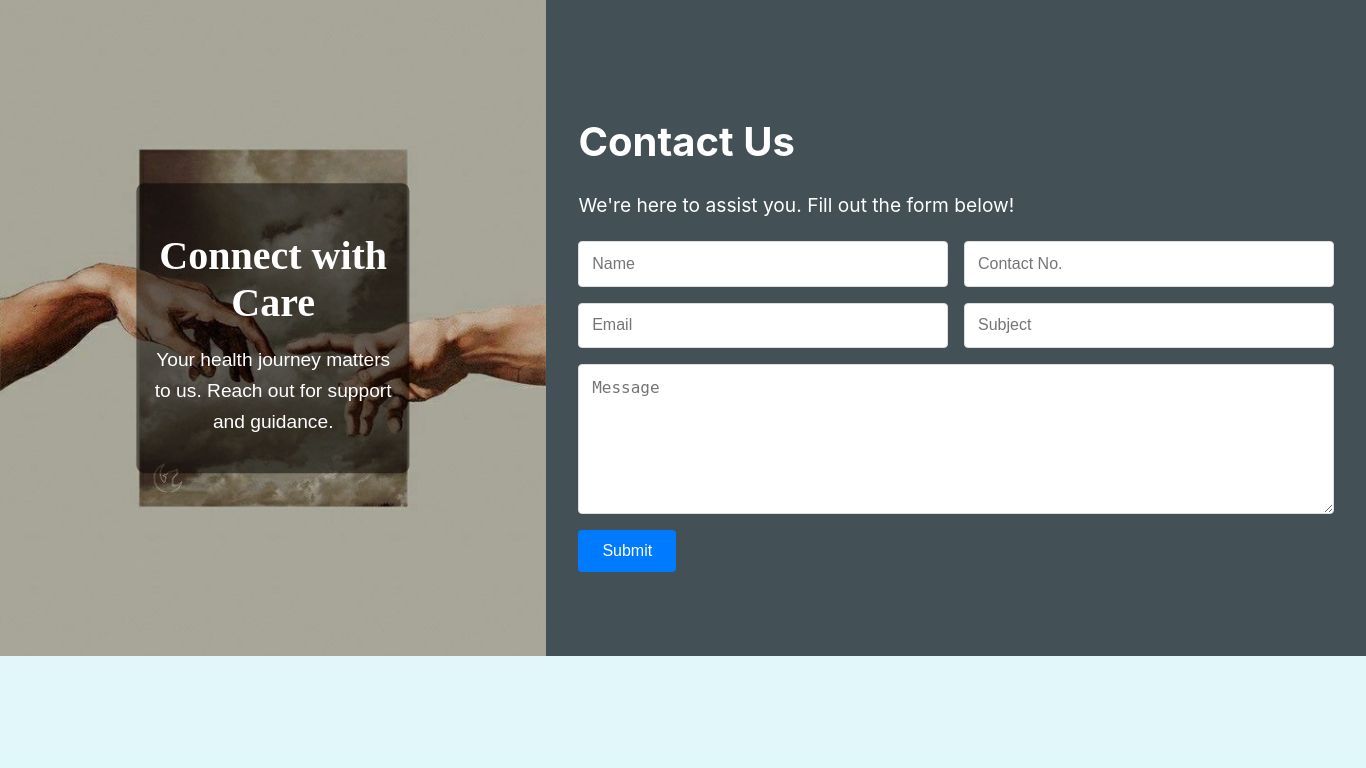
Test case: ContactPage › submits the form successfully
Fill out the form
In the field with placeholder "Name": (763, 264) [578, 241, 948, 287], type "John Doe"
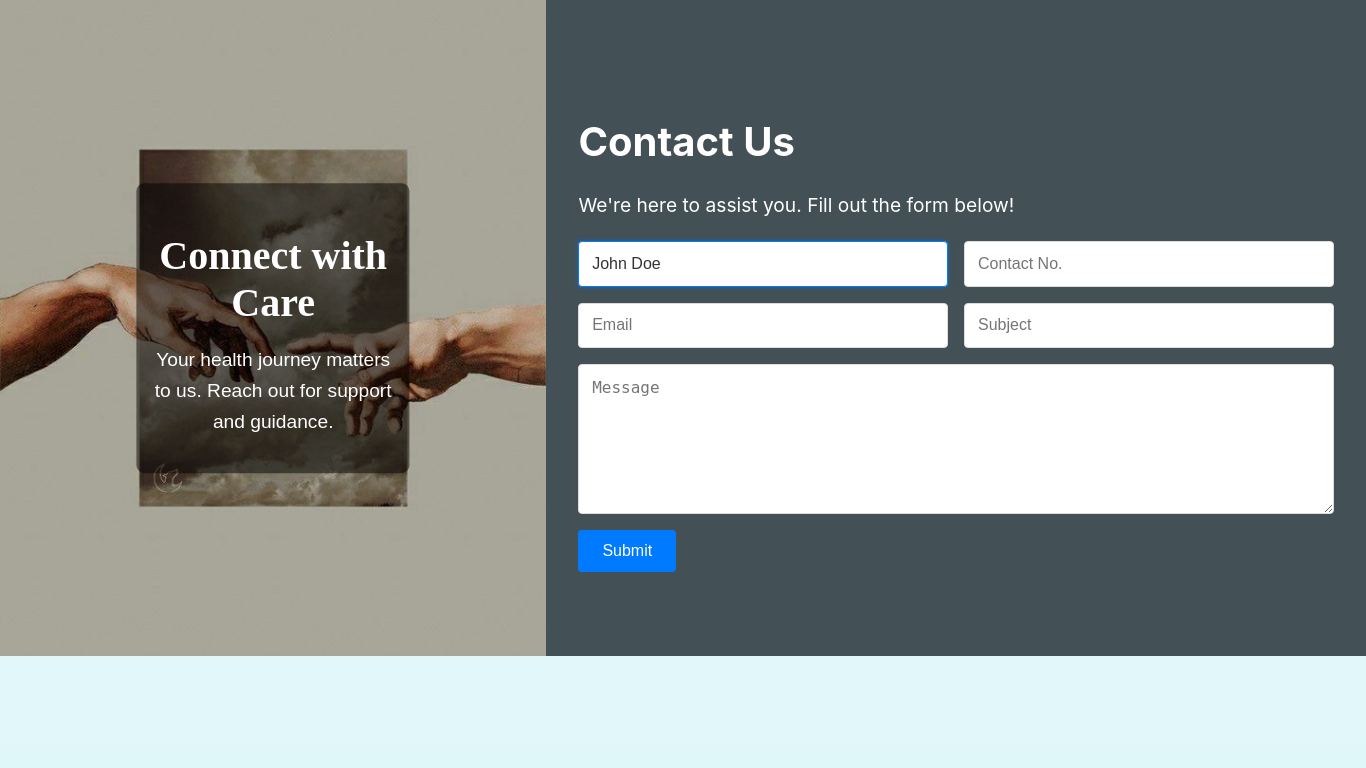
In the field with placeholder "Contact No.": (1149, 264) [964, 241, 1334, 287], type "1234567890"
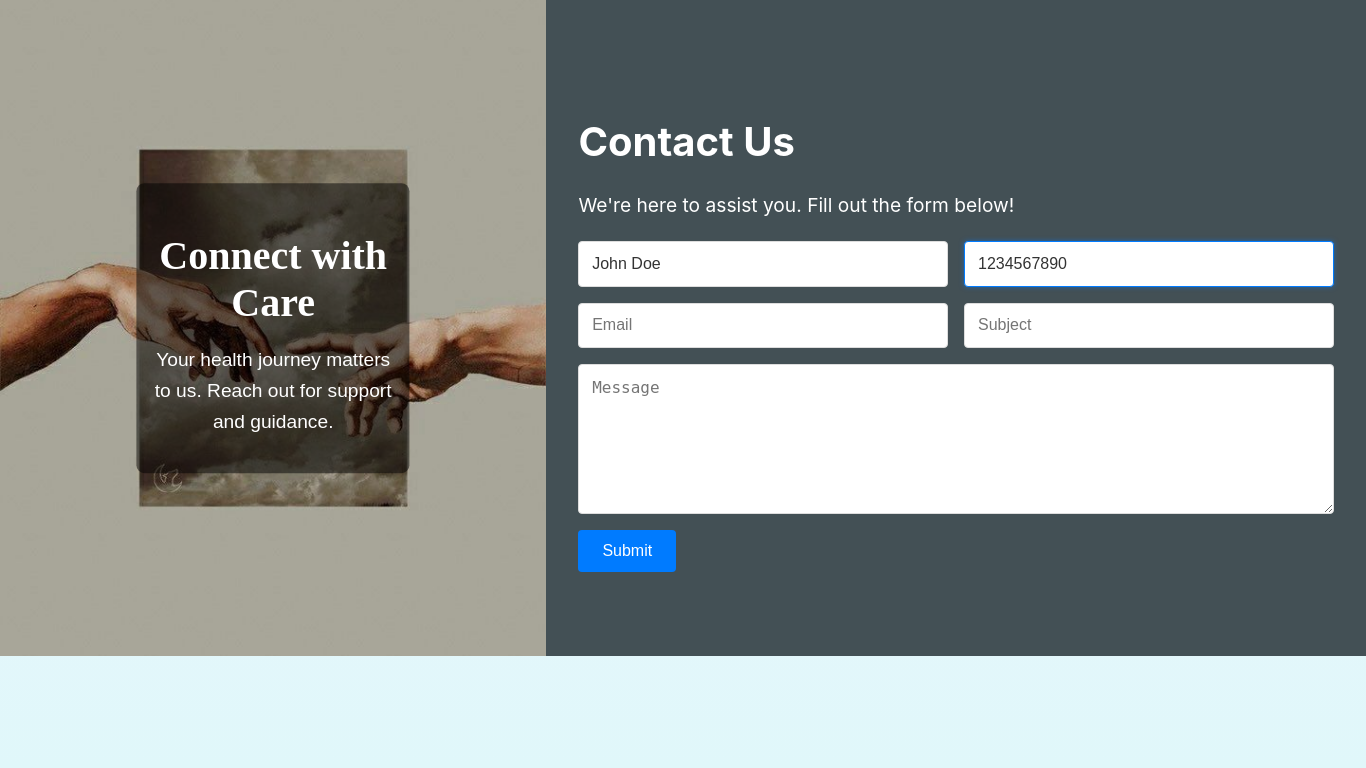
In the field with placeholder "Email": (763, 326) [578, 303, 948, 348], type "john.doe@example.com"
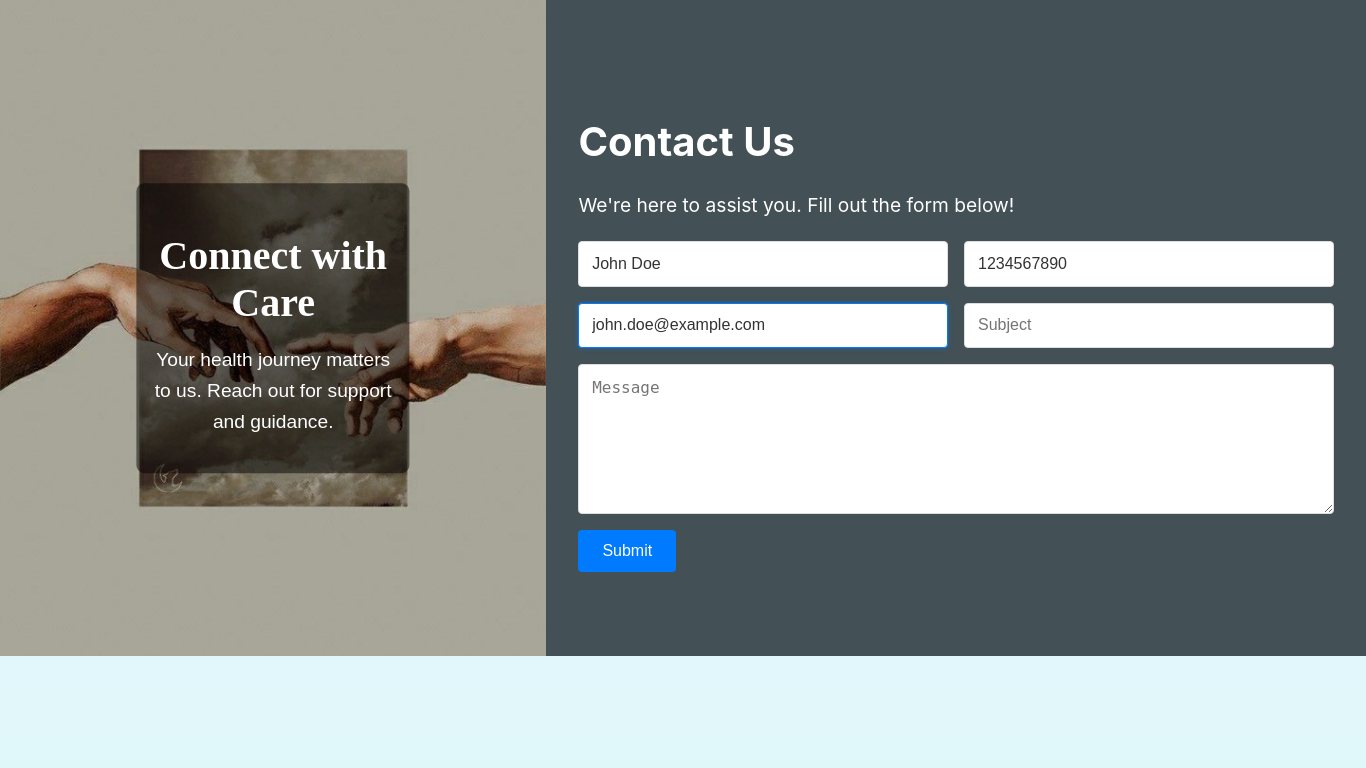
In the field with placeholder "Subject": (1149, 326) [964, 303, 1334, 348], type "Test Subject"
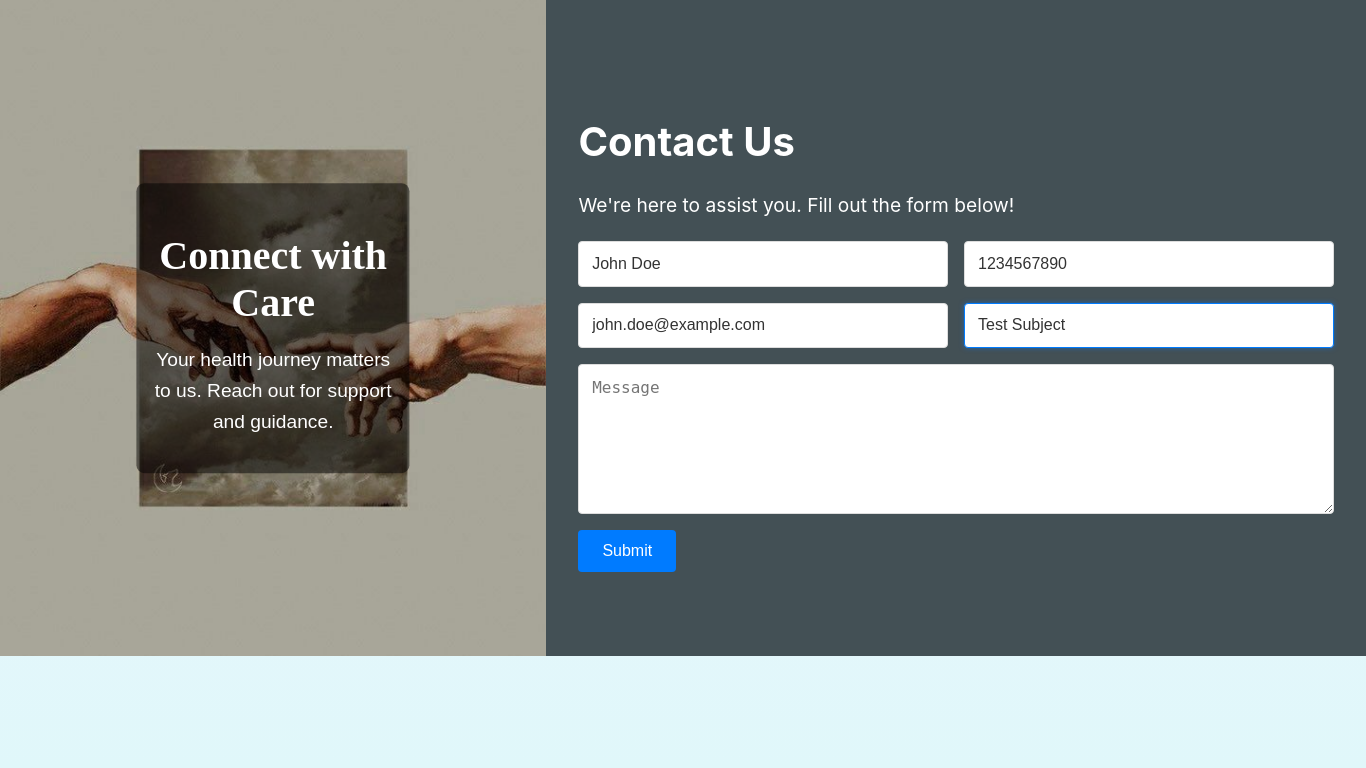
In the text box with placeholder "Message": (956, 439) [578, 364, 1334, 514], type "This is a test message."
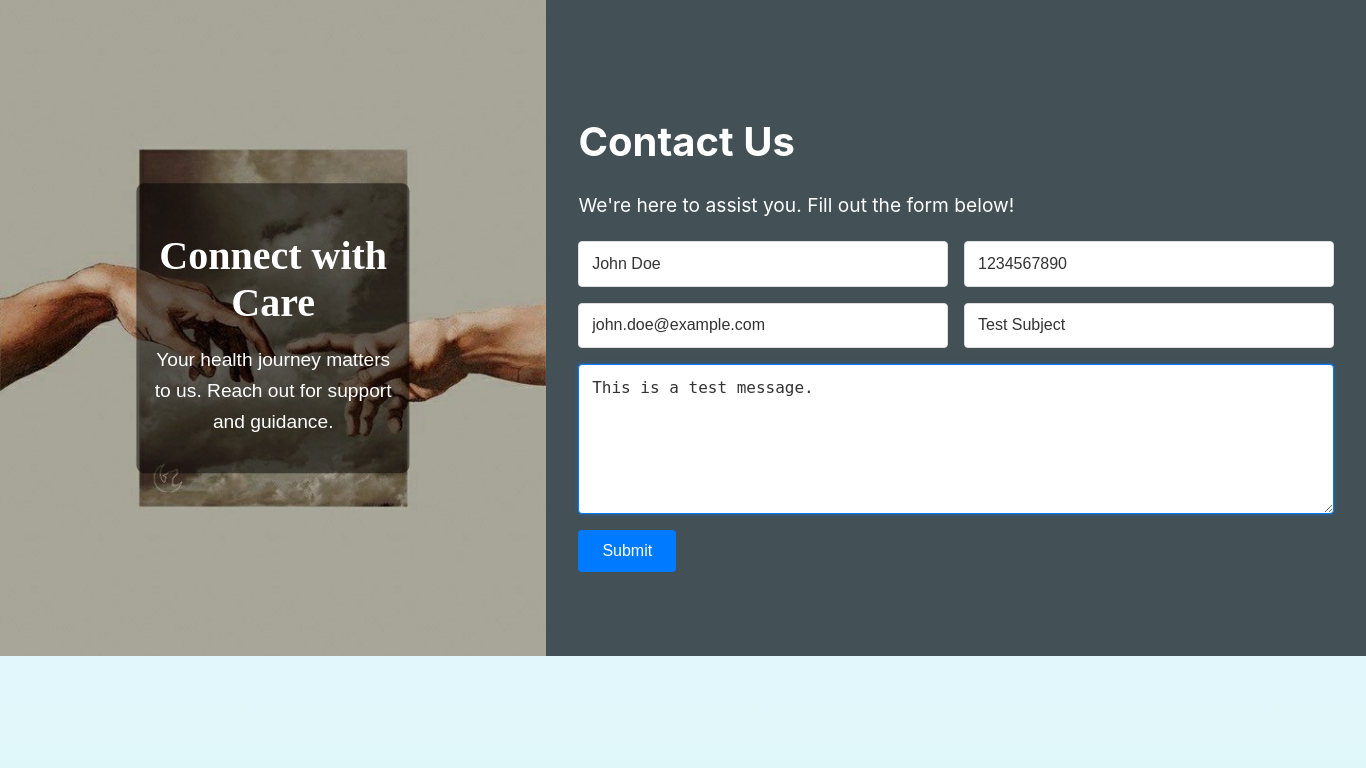
Submit the form
Click the button "Submit": (627, 551) [578, 530, 676, 572]
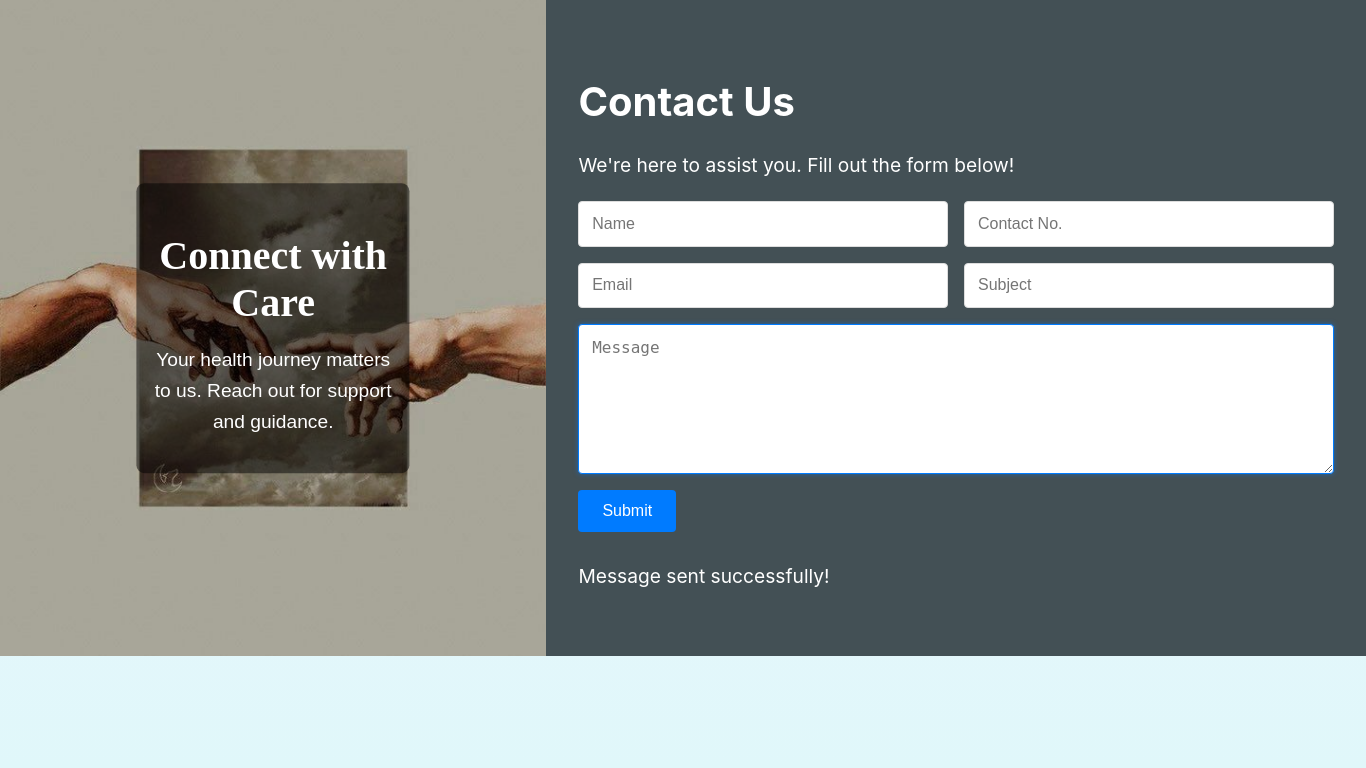
Result: the text "Message sent successfully!" is shown at [578, 564, 830, 588]
Result: the field with placeholder "Name" is empty at [578, 201, 948, 247]
Result: the field with placeholder "Contact No." is empty at [964, 201, 1334, 247]
